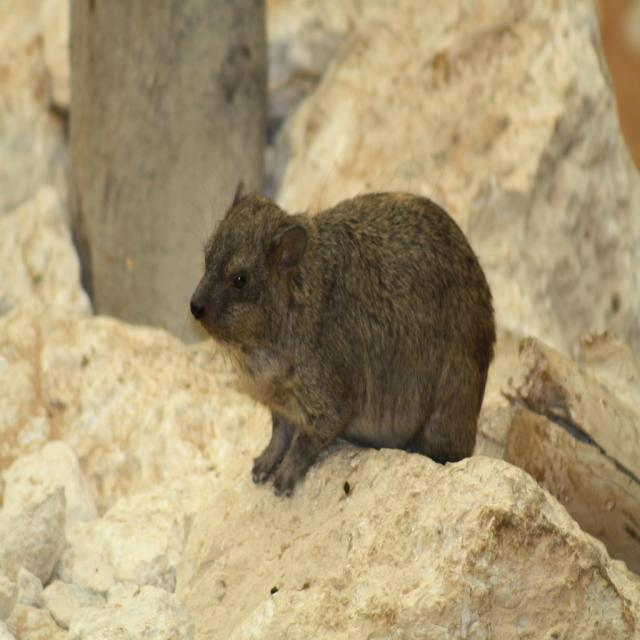rat: (177, 164, 509, 478)
